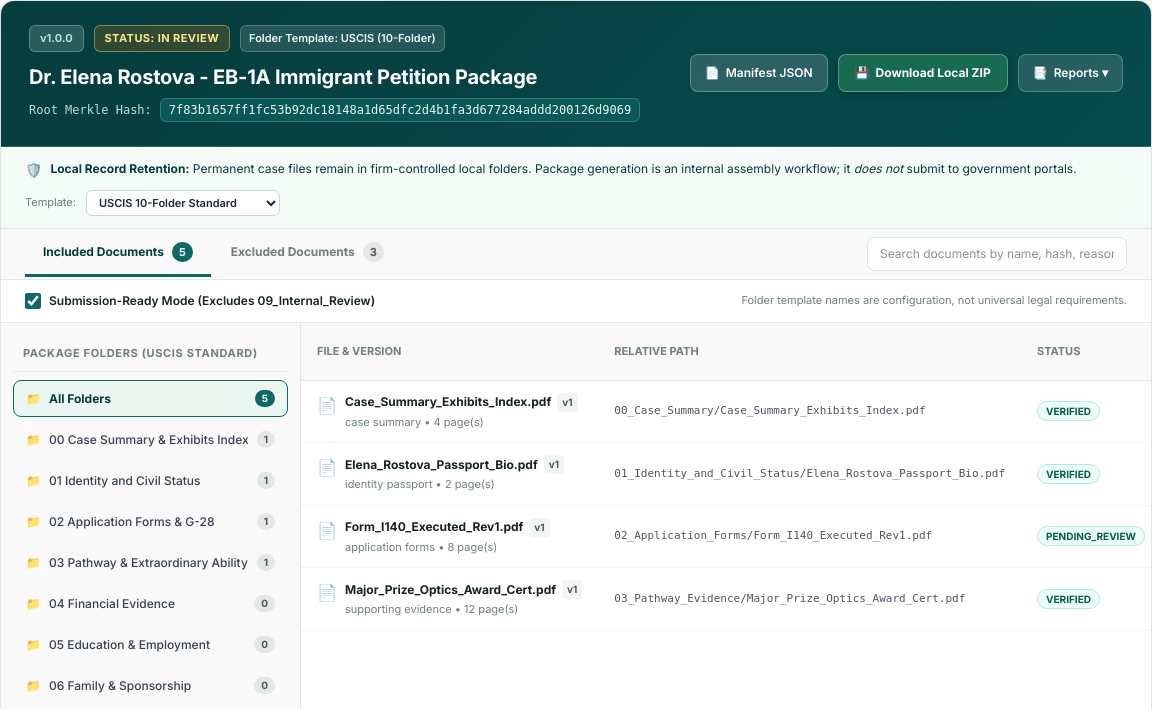
Phase 7 — Package Assembly and Local-Folder Workflow (Frontend) › renders firm-configured package folders and supports switching to Canada template
Expected: the text "Local Record Retention:" is shown, [50,161,190,176]
Expected: the text "Permanent case files remain in firm-controlled local folders" is shown, [189,161,854,176]
Switch to Canada (CIC / IRCC 5-Folder)
Select "Canada (CIC / IRCC 5-Folder)" in the dropdown with test id "package-folder-template-selector" at (183, 202), box [86,190,280,216]
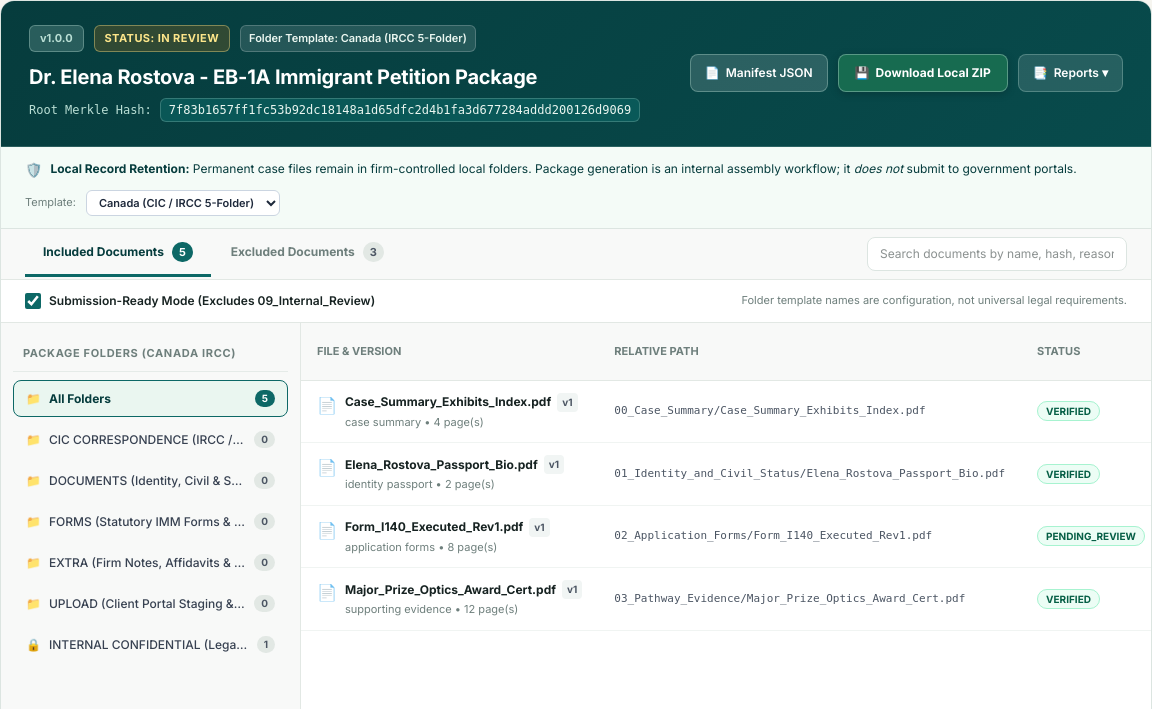
Expected: the text "CIC CORRESPONDENCE (IRCC / Provincial Letters)" is shown, [49,432,246,447]
Expected: the text "DOCUMENTS (Identity, Civil & Supporting Evidence)" is shown, [49,473,246,488]
Expected: the text "FORMS (Statutory IMM Forms & Schedules)" is shown, [49,514,246,529]
